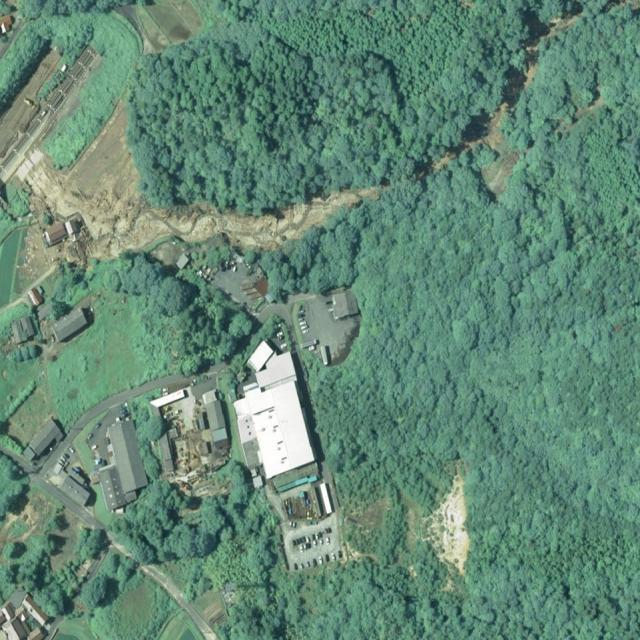landslide: (17, 99, 380, 258), (422, 467, 470, 575), (125, 1, 193, 43)
